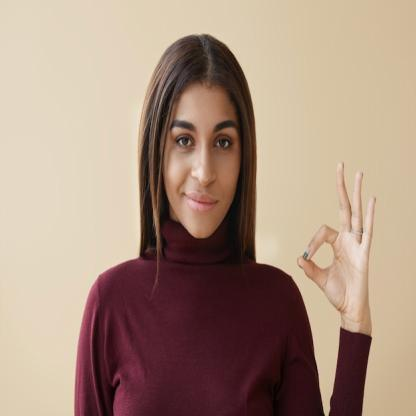ok: (296, 158, 380, 322)
